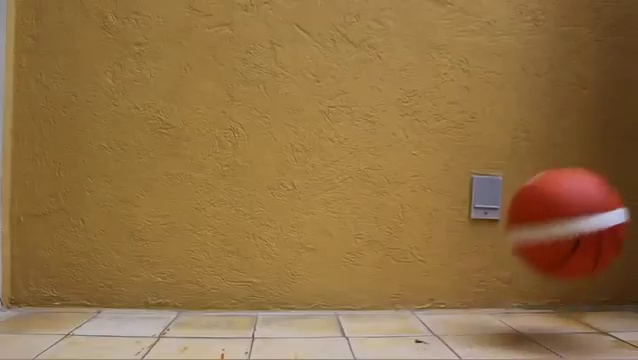ball: (508, 164, 631, 284)
